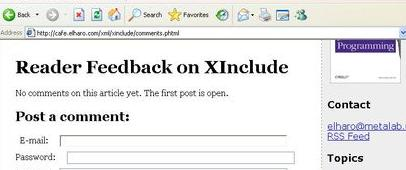field: (58, 133, 289, 149), (64, 151, 295, 165)
field_with_label: (24, 24, 401, 38), (19, 131, 290, 149), (15, 150, 297, 166)
